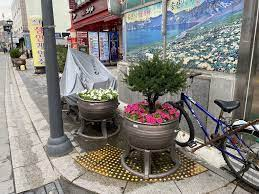guide_blocks: (78, 142, 207, 179)
